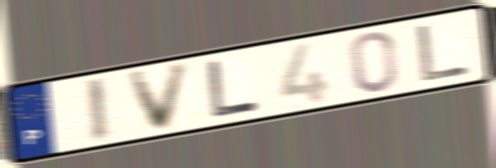0: (347, 29, 400, 96)
4: (277, 40, 333, 106)
I: (83, 74, 112, 145)
L: (205, 57, 263, 121), (414, 22, 473, 84)
V: (124, 59, 195, 135)
